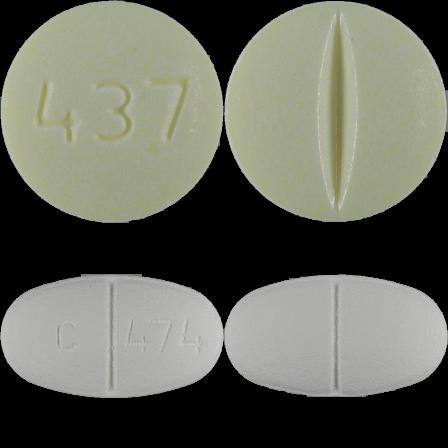57664-437: (0, 0, 224, 224)
